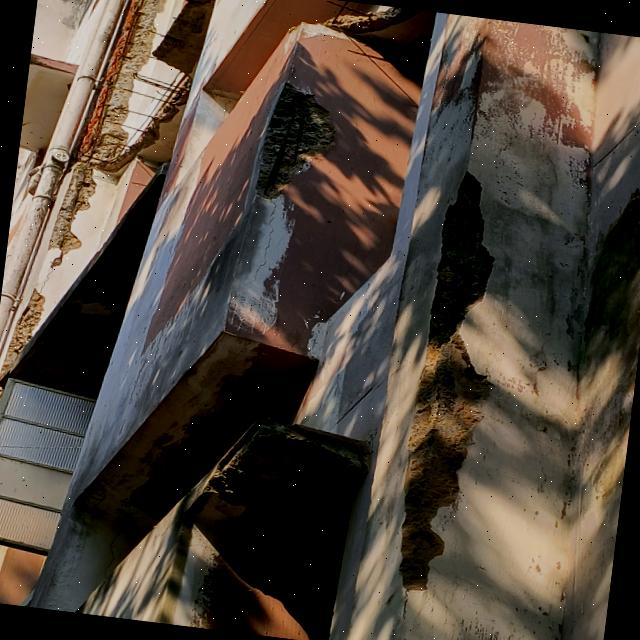Crack: (238, 197, 278, 288), (98, 527, 125, 586), (88, 474, 116, 523)
Incomplete Plaster Work: (577, 188, 640, 499)
Spalling: (399, 174, 493, 591), (48, 0, 161, 267), (78, 0, 217, 179), (205, 418, 368, 508), (255, 83, 334, 200), (0, 289, 45, 381), (302, 0, 418, 34)
pollution -moisture induced blackening: (577, 188, 640, 499), (45, 0, 89, 33)
